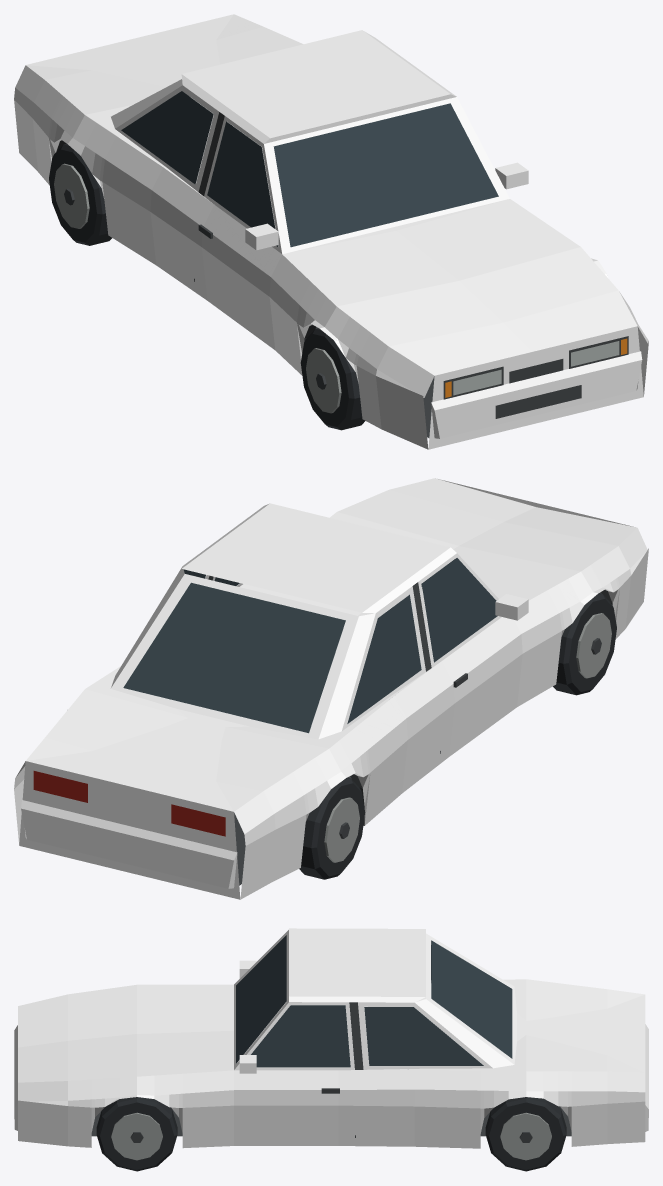
The model's file is mizuchi_kagero_gt.glb.
3 views of the same model, one above another, from view 1: azimuth 30°, elevation 25°; view 2: azimuth 150°, elevation 25°; view 3: azimuth 270°, elevation 25° (orthographic). The views are drawn at different scales.
Parts seen in each view (by area): view 1: mizuchi_kagero_gt; view 2: mizuchi_kagero_gt; view 3: mizuchi_kagero_gt.
Part boxes in pixels (<box>): mizuchi_kagero_gt: <box>14,14,648,449</box>; mizuchi_kagero_gt: <box>14,478,648,899</box>; mizuchi_kagero_gt: <box>14,928,648,1171</box>.
Size of the model in its own units: 1.75 by 1.24 by 4.47.
Materials: 8 (1 with a texture image).
